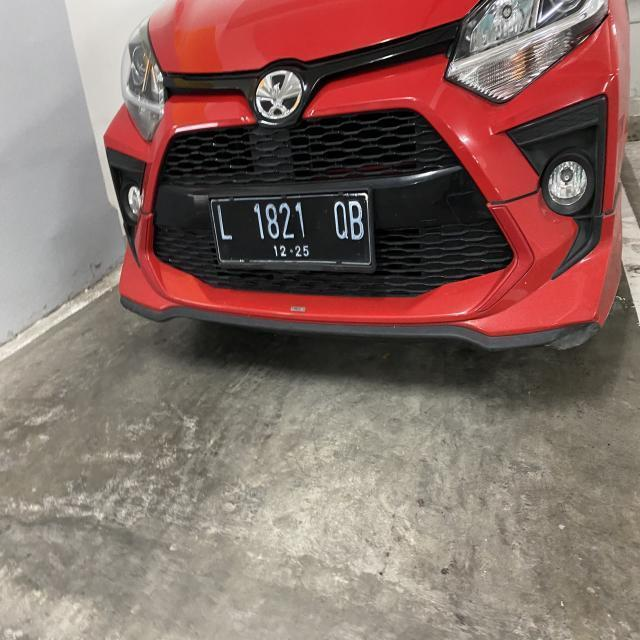1: (252, 199, 265, 242), (296, 196, 307, 242)
2: (280, 198, 294, 242)
8: (265, 200, 279, 243)
B: (348, 198, 366, 242)
L: (212, 198, 235, 248)
Q: (330, 199, 348, 244)
